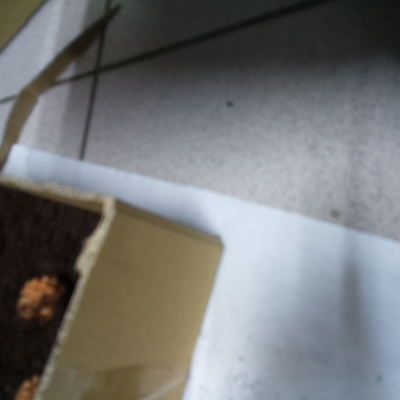eggs: (13, 270, 67, 329), (9, 369, 42, 400)
